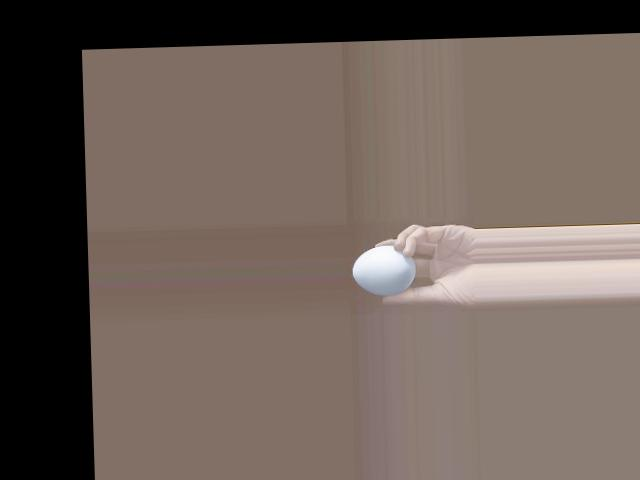egg: (350, 243, 415, 295)
